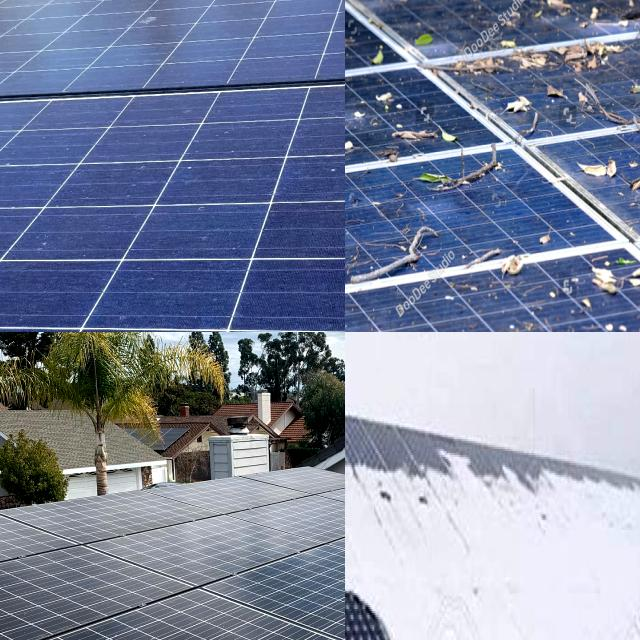dust: (118, 112, 262, 250), (0, 122, 90, 252), (285, 87, 345, 250), (125, 254, 232, 322), (257, 269, 345, 329), (0, 272, 84, 317)
panel: (418, 454, 510, 591), (519, 461, 608, 600), (345, 443, 422, 590), (345, 452, 398, 587), (406, 602, 530, 640), (618, 476, 640, 640), (540, 608, 612, 640)
